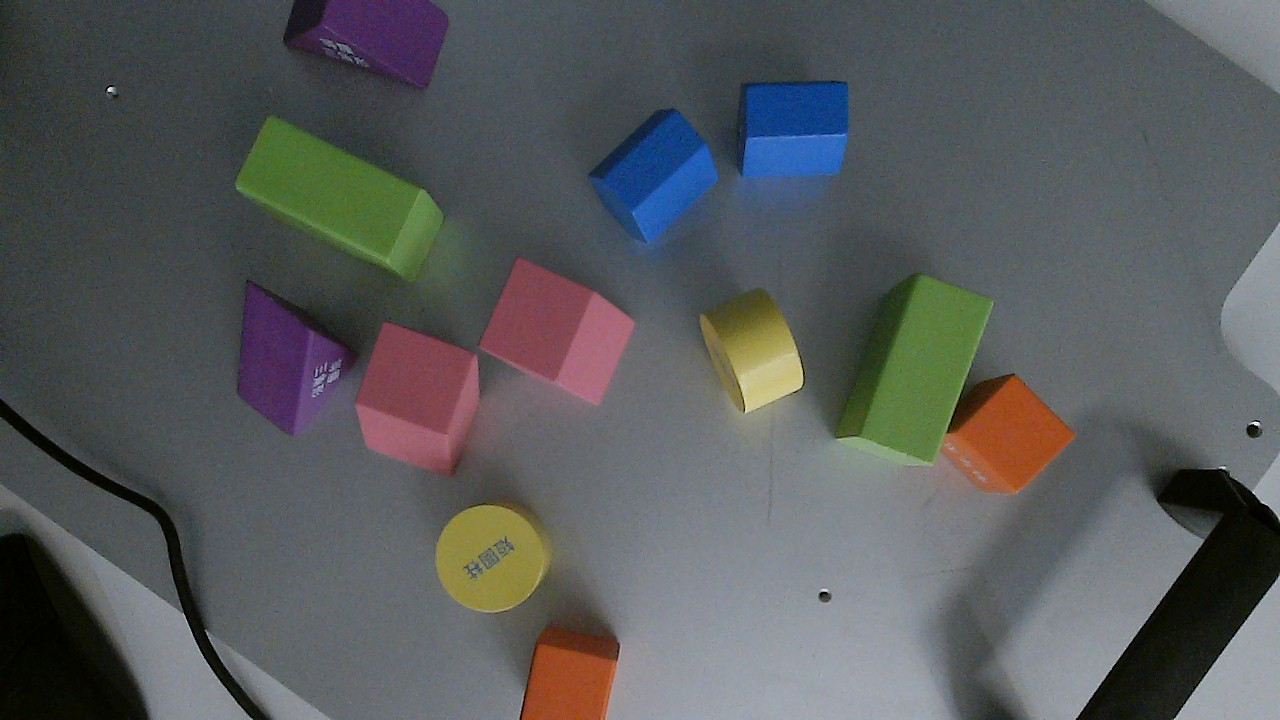circle: (696, 287, 804, 411), (436, 500, 547, 617)
diamond: (475, 258, 635, 406), (351, 322, 485, 479)
hexagon: (592, 107, 720, 247), (734, 79, 852, 178)
rectangle: (234, 116, 445, 282), (841, 274, 994, 466)
square: (938, 376, 1078, 499), (521, 624, 618, 720)
triangle: (230, 278, 362, 434), (281, 1, 451, 91)
